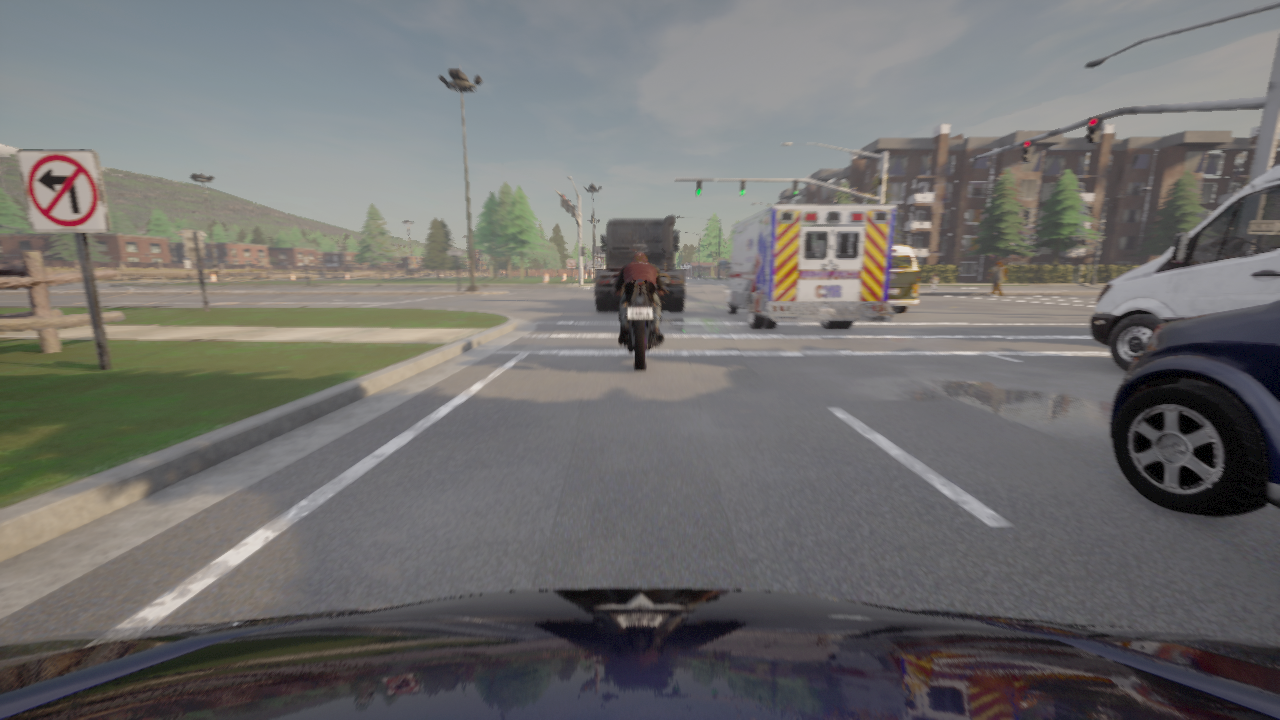cyclist: (0, 588, 1279, 719), (1089, 163, 1279, 371), (1109, 300, 1279, 515), (718, 205, 895, 328), (595, 215, 685, 311), (611, 274, 668, 370), (888, 245, 918, 313)
pedestrian: (987, 261, 1006, 295), (931, 274, 937, 289)
